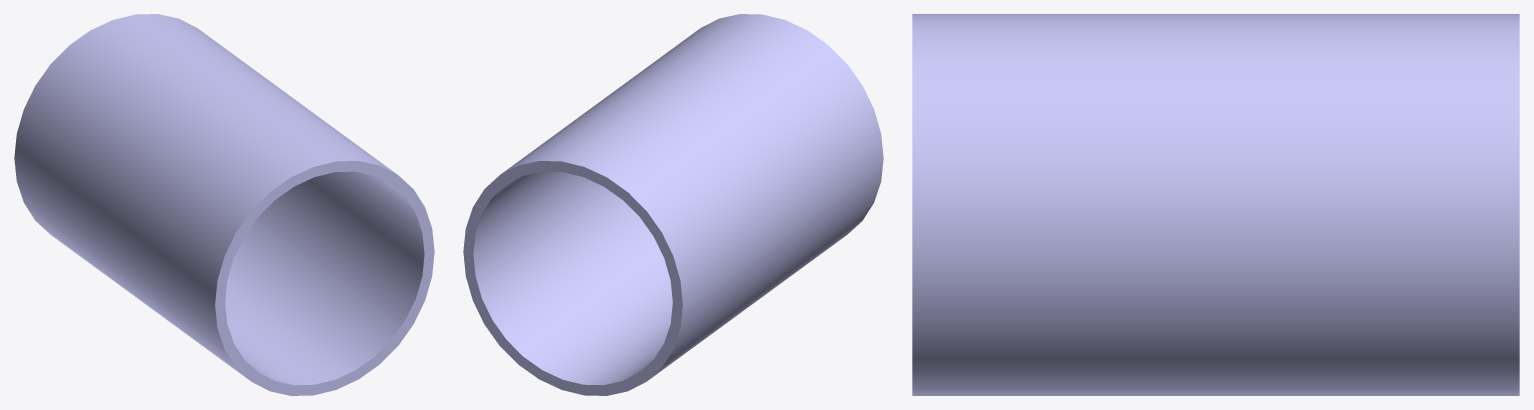
Rendered from FCChh_DectMaster.gltf.
3 views of the same model, side by side, from view 1: azimuth 30°, elevation 25°; view 2: azimuth 150°, elevation 25°; view 3: azimuth 270°, elevation 25° (orthographic). The views are drawn at different scales.
Visible parts, largest first — view 1: BarrelSolenoid_SimpleCylinder_0; view 2: BarrelSolenoid_SimpleCylinder_0; view 3: BarrelSolenoid_SimpleCylinder_0.
Part boxes in pixels (x1,y1,x2,y2): BarrelSolenoid_SimpleCylinder_0: (14,14,434,395); BarrelSolenoid_SimpleCylinder_0: (463,14,883,395); BarrelSolenoid_SimpleCylinder_0: (912,14,1519,395).
Bounding box in the file's own units: 1200 × 1193 × 1900.
